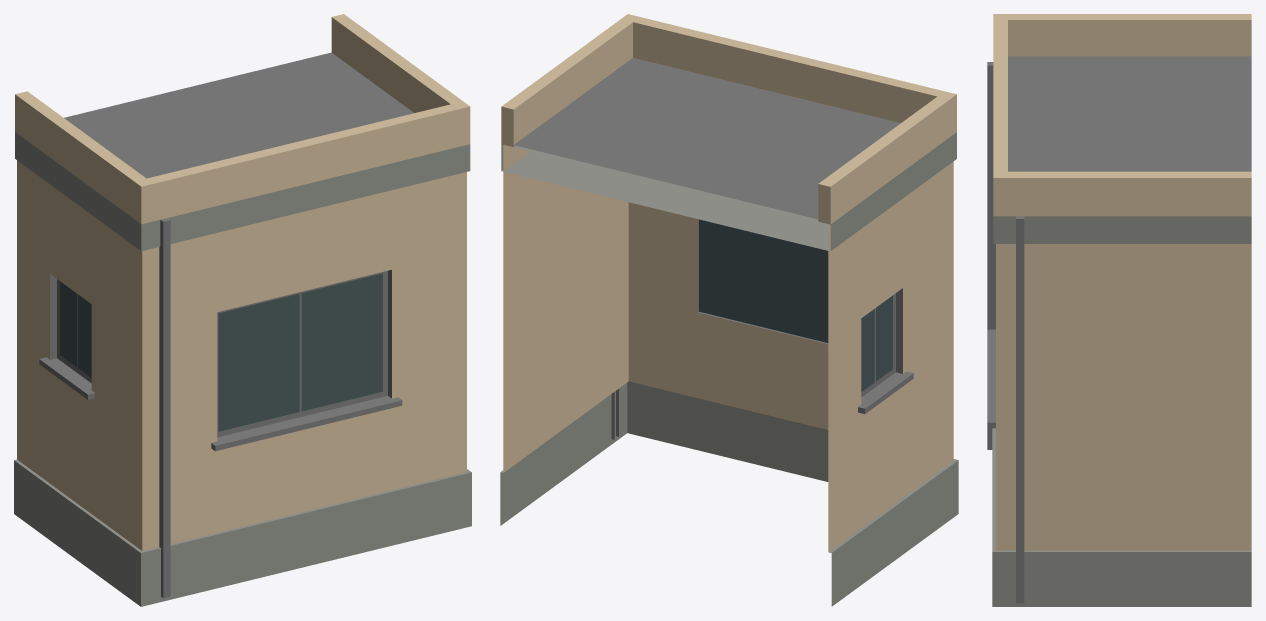
The model's file is base-stair.fbx.
3 views of the same model, side by side, from view 1: azimuth 30°, elevation 25°; view 2: azimuth 150°, elevation 25°; view 3: azimuth 270°, elevation 25° (orthographic). The views are drawn at different scales.
Visible parts, largest first — view 1: a2000/400/base-stair; view 2: a2000/400/base-stair; view 3: a2000/400/base-stair.
Part boxes in pixels (<box>): a2000/400/base-stair: <box>14,14,471,606</box>; a2000/400/base-stair: <box>500,14,958,606</box>; a2000/400/base-stair: <box>987,14,1251,606</box>.
Bounding box in the file's own units: 3.3 × 3.9 × 2.18.
